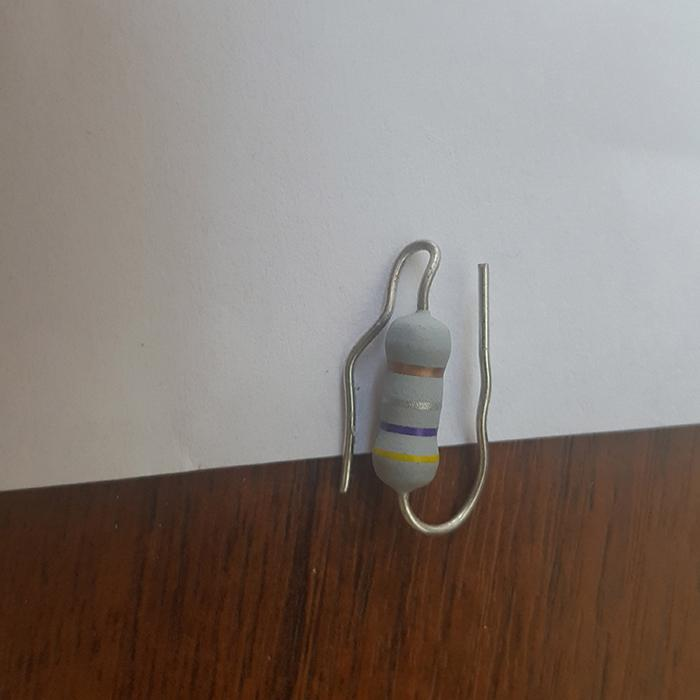resistor: (370, 310, 452, 498)
